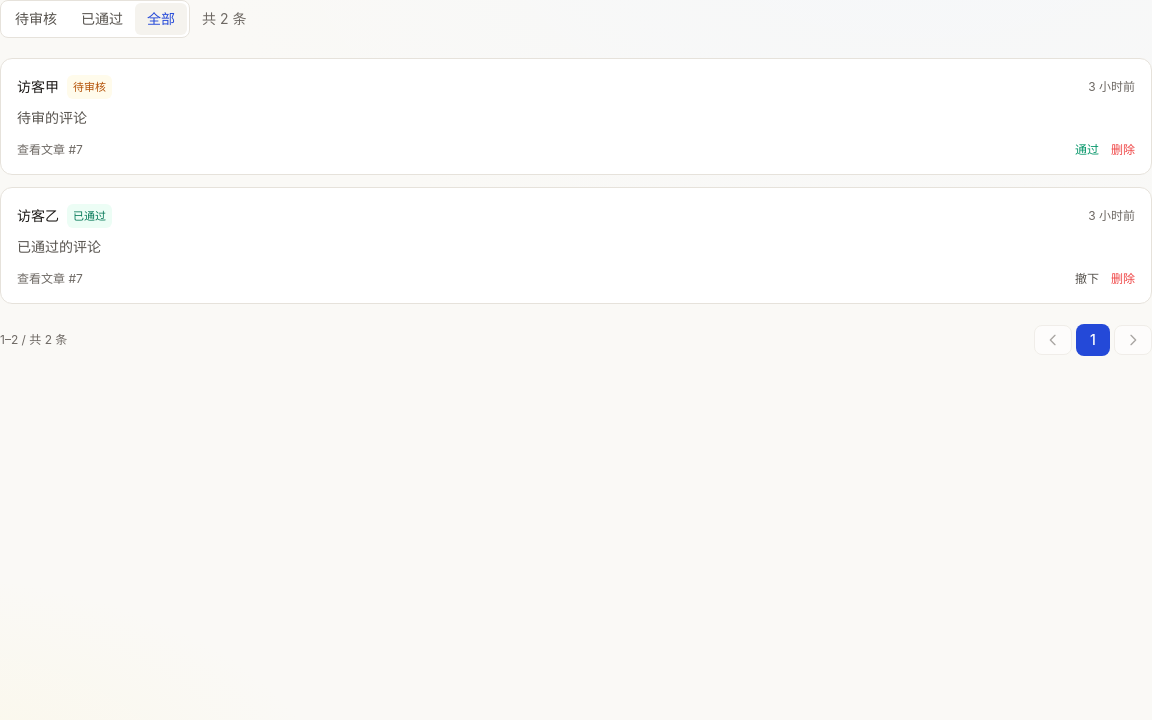
CommentListView · 删除 › 确认删除：remove(id) + 「评论已删除」+ 刷新列表（被删的行消失）
The width and height of the screenshot is (1152, 720).
Click the 1st button "删除" at (1123, 150), box [1111,142,1135,158]
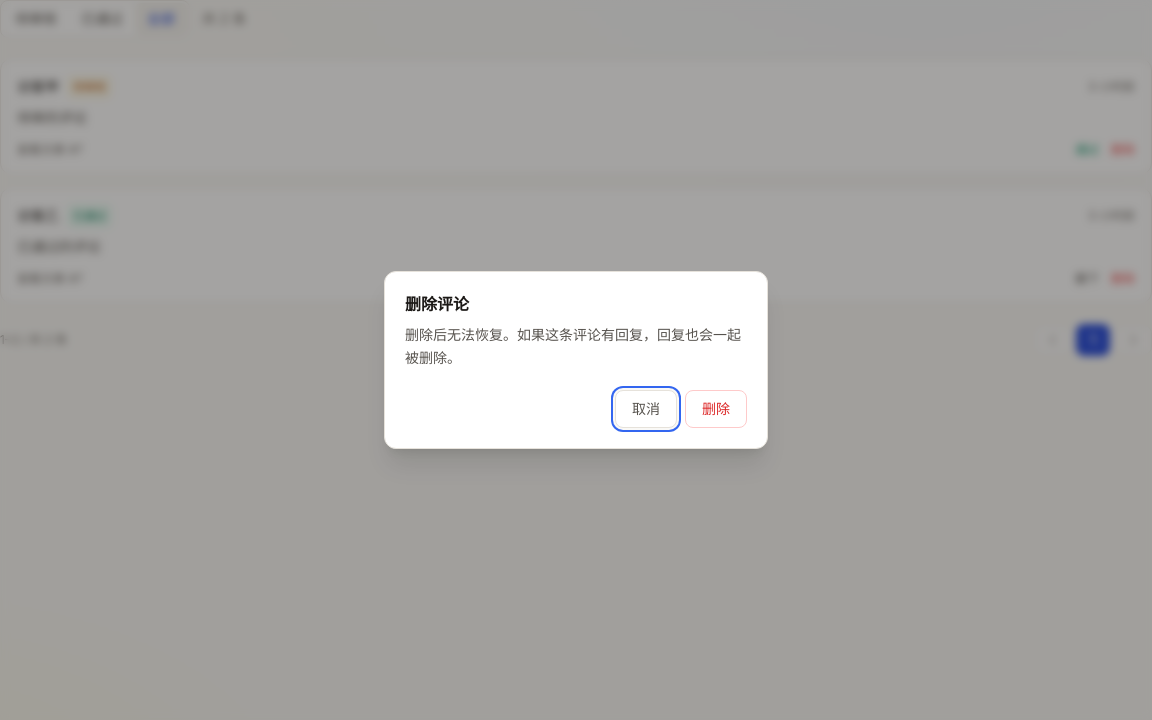
Click the button "删除" at (716, 409), box [685,390,747,428]
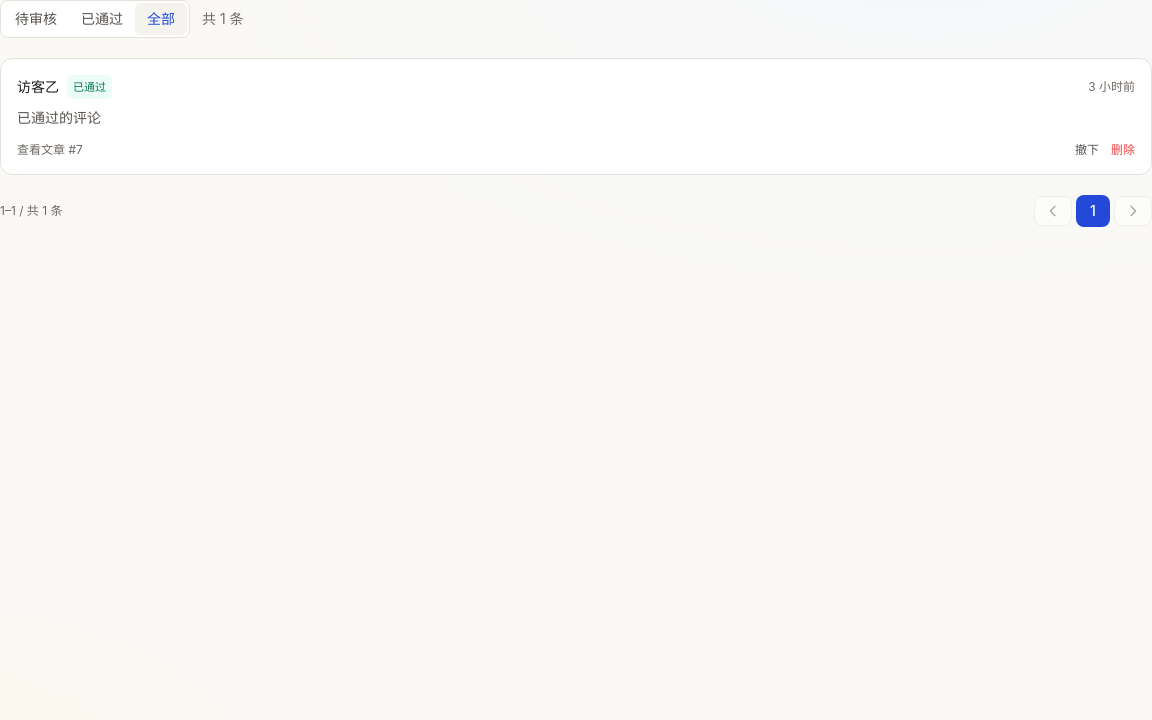
Check: the text "访客甲" is gone
Check: the dialog is gone
